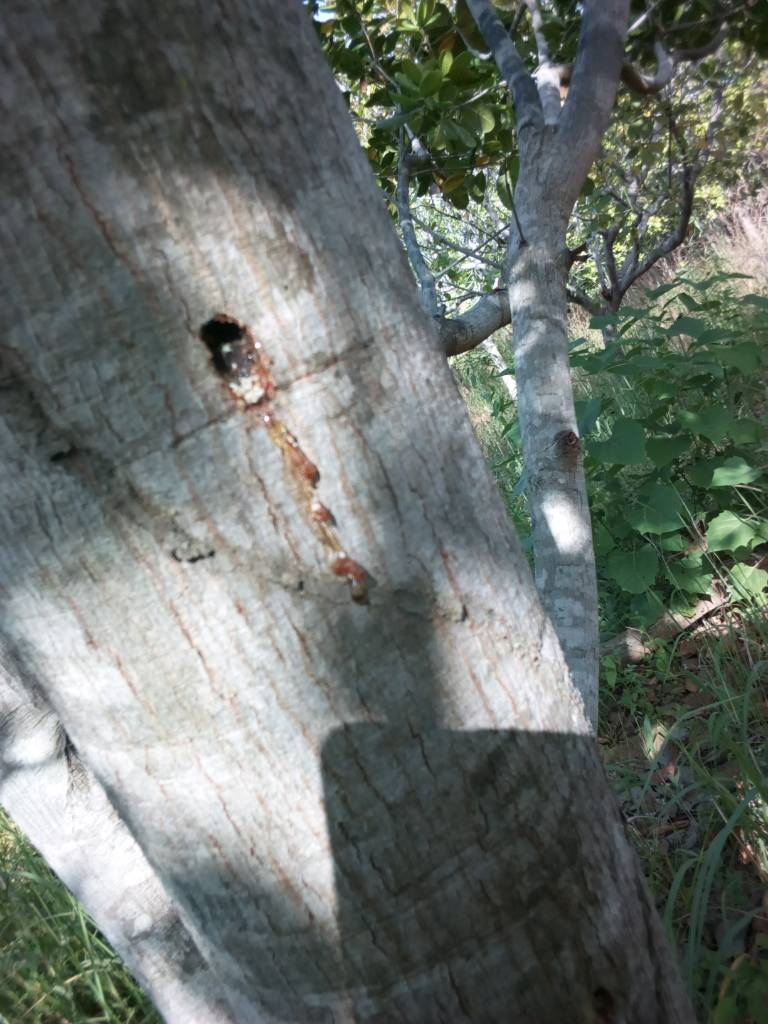Apate terebrans: (174, 295, 313, 417)
